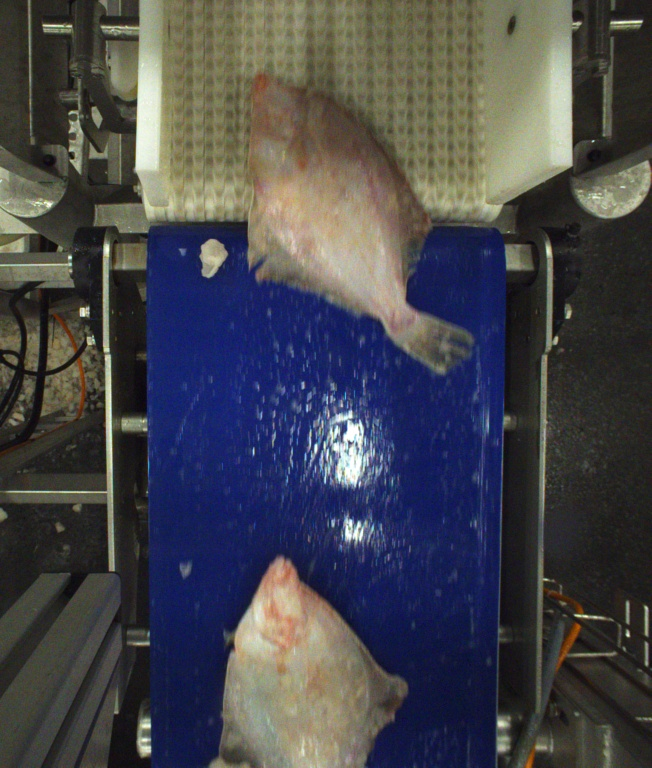PLE: (253, 77, 474, 376)
